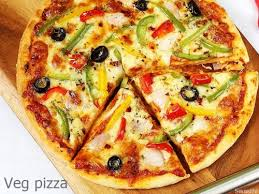pizza: (21, 3, 255, 173)
